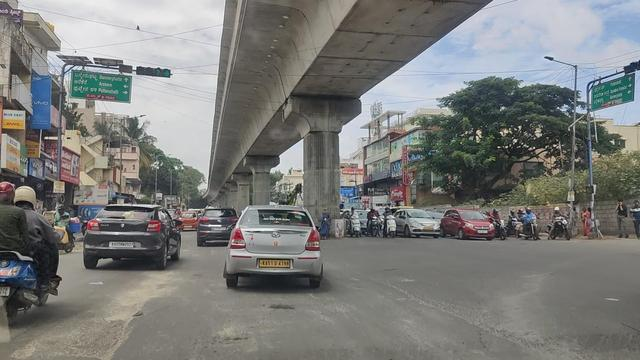LMV: (229, 201, 323, 291), (0, 179, 54, 325), (84, 198, 180, 271)
RoadDamages: (55, 298, 139, 360), (431, 291, 481, 326), (202, 326, 263, 349), (380, 275, 425, 305)
